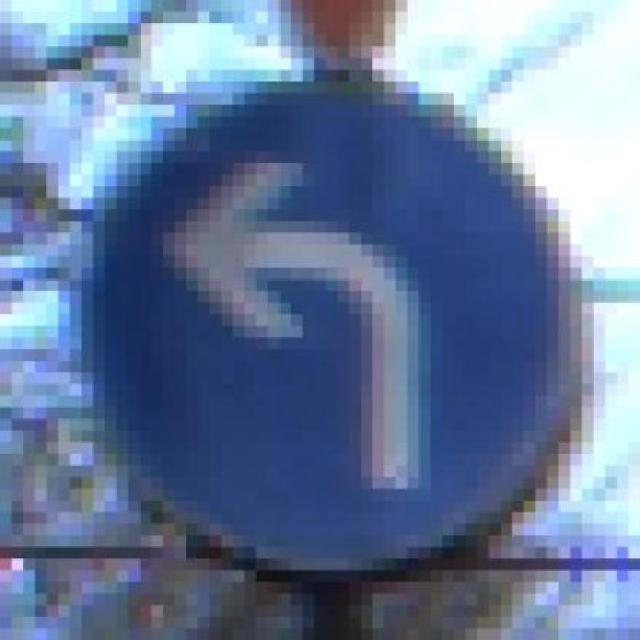Turn left ahead: (81, 70, 594, 582)
